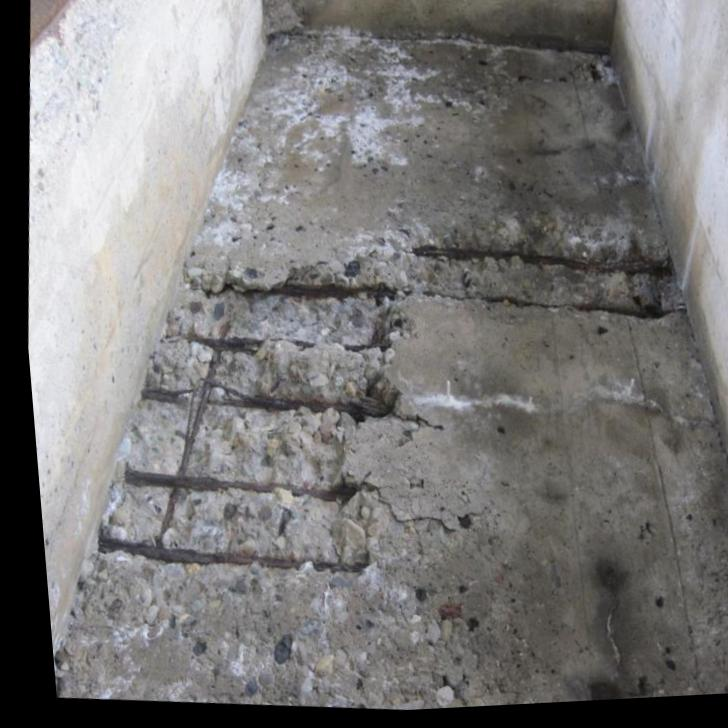damage: (70, 229, 677, 604)
